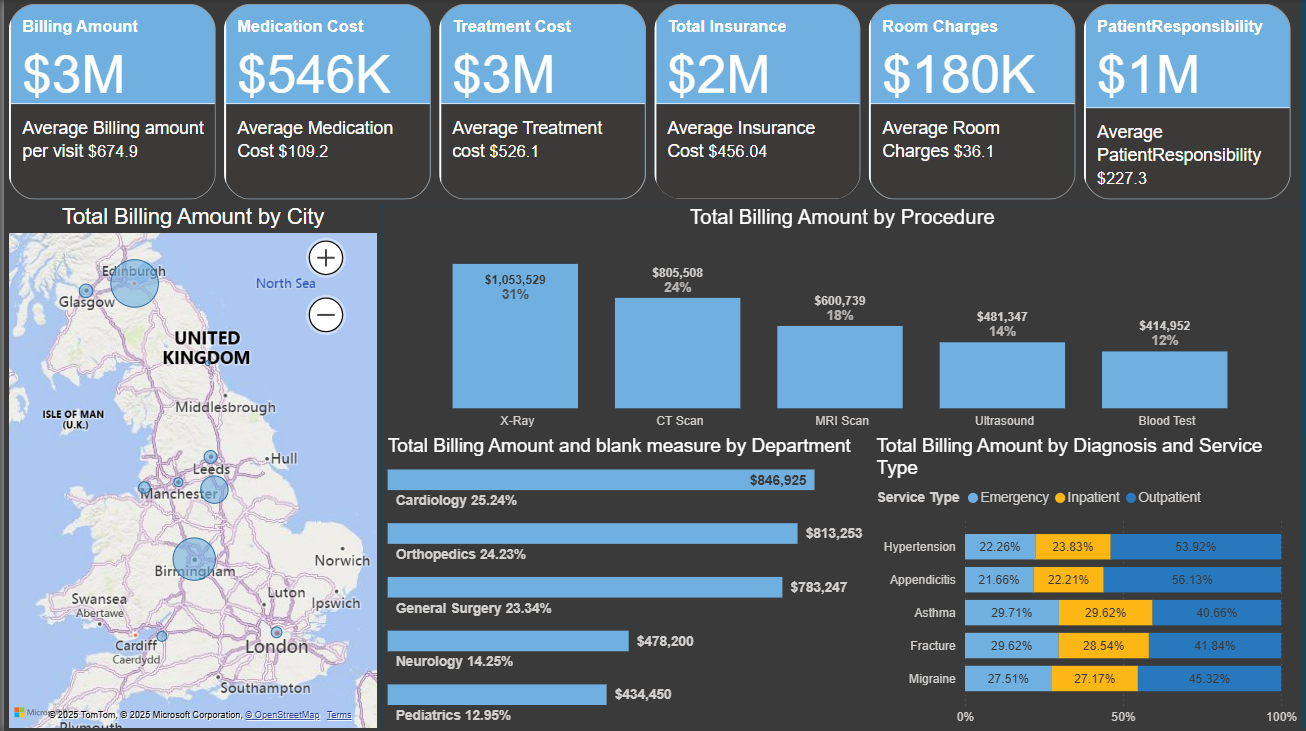

The page's visual inventory and layout, read from the dashboard file:
{"tool":"powerbi","page":{"name":"Page 1","canvas":[1280,720],"ordinal":0},"visuals":[{"type":"cardVisual","fields":{"Data":["Dax calculations.Total Billing Amount","Dax calculations.Total Medication Cost","Dax calculations.Total Treatment Cost","Dax calculations.Total Insurance Covered","Dax calculations.Total Room Charges","Dax calculations.PatientResponsibility"]},"box":[0,0,1273.8,202.5],"z":0},{"type":"map","fields":{"Category":["cities.City"],"Size":["Dax calculations.Total Billing Amount"]},"box":[0,201.2,371.2,518.8],"z":1000},{"type":"clusteredColumnChart","fields":{"Category":["procedures.Procedure"],"Y":["Dax calculations.Total Billing Amount"]},"box":[371.2,202.5,902.5,227.5],"z":2000},{"type":"hundredPercentStackedBarChart","fields":{"Y":["Dax calculations.Total Billing Amount"],"Category":["diagnoses.Diagnosis"],"Series":["visits.Service Type"]},"box":[851.5,428.2,423.3,292],"z":3000},{"type":"clusteredBarChart","fields":{"Category":["departments.Department"],"Y":["Dax calculations.Total Billing Amount","Dax calculations.blank measure"]},"box":[371.8,428.2,479.8,292],"z":4000}]}

Visuals, with their boxes in screenshot pixels (x1, y1, x2, y2), scaled from the page's 1280x720 canvas onto the 1306x731 screenshot:
cardVisual - Dax calculations.Total Billing Amount x Dax calculations.Total Medication Cost: locate(0, 0, 1300, 206)
map - cities.City x Dax calculations.Total Billing Amount: locate(0, 204, 379, 730)
clusteredColumnChart - procedures.Procedure x Dax calculations.Total Billing Amount: locate(379, 206, 1300, 437)
hundredPercentStackedBarChart - Dax calculations.Total Billing Amount x diagnoses.Diagnosis: locate(869, 435, 1301, 730)
clusteredBarChart - departments.Department x Dax calculations.Total Billing Amount: locate(379, 435, 869, 730)
